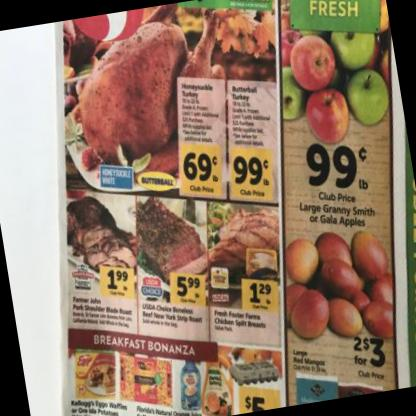Paper: (56, 0, 398, 416)
